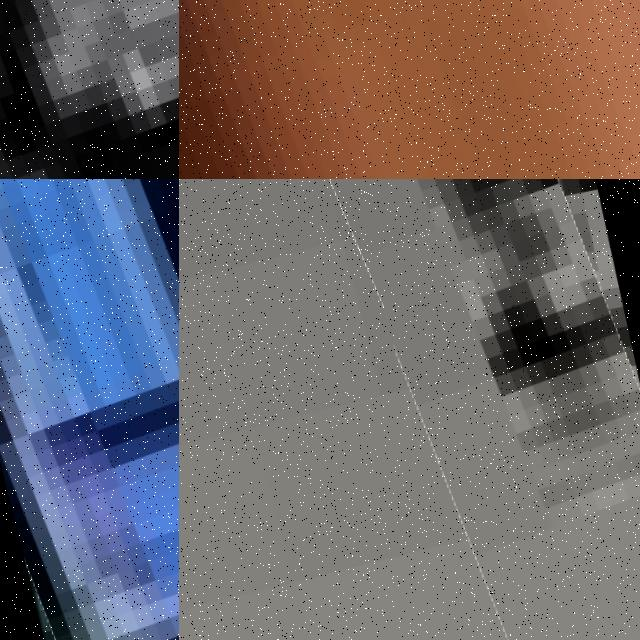0: (341, 179, 640, 640), (0, 179, 179, 640), (0, 0, 179, 179)
drone: (179, 0, 640, 179)
